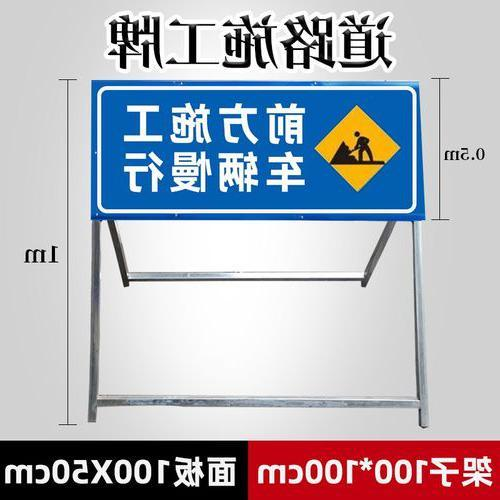sign: (93, 84, 419, 215)
